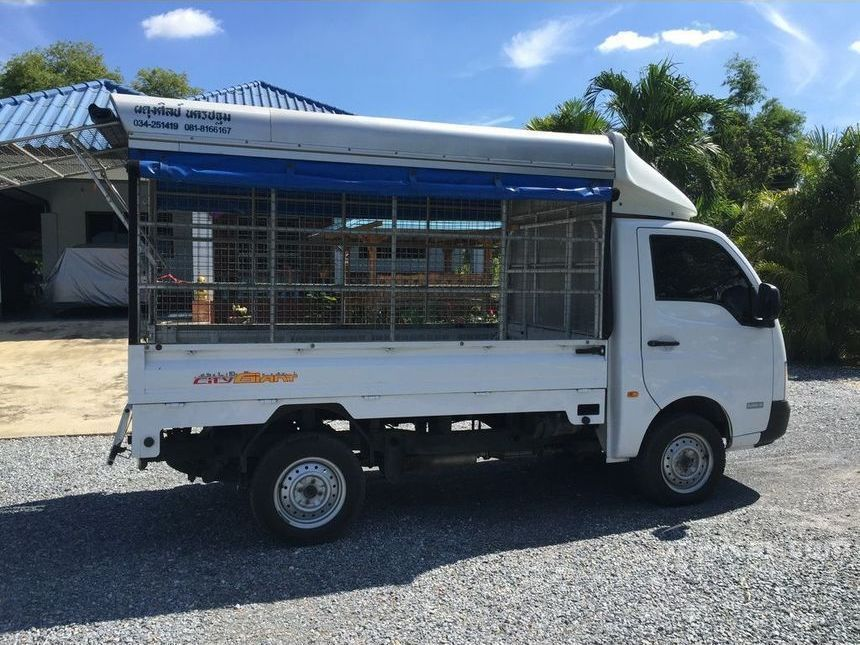pickup: (111, 203, 795, 544)
